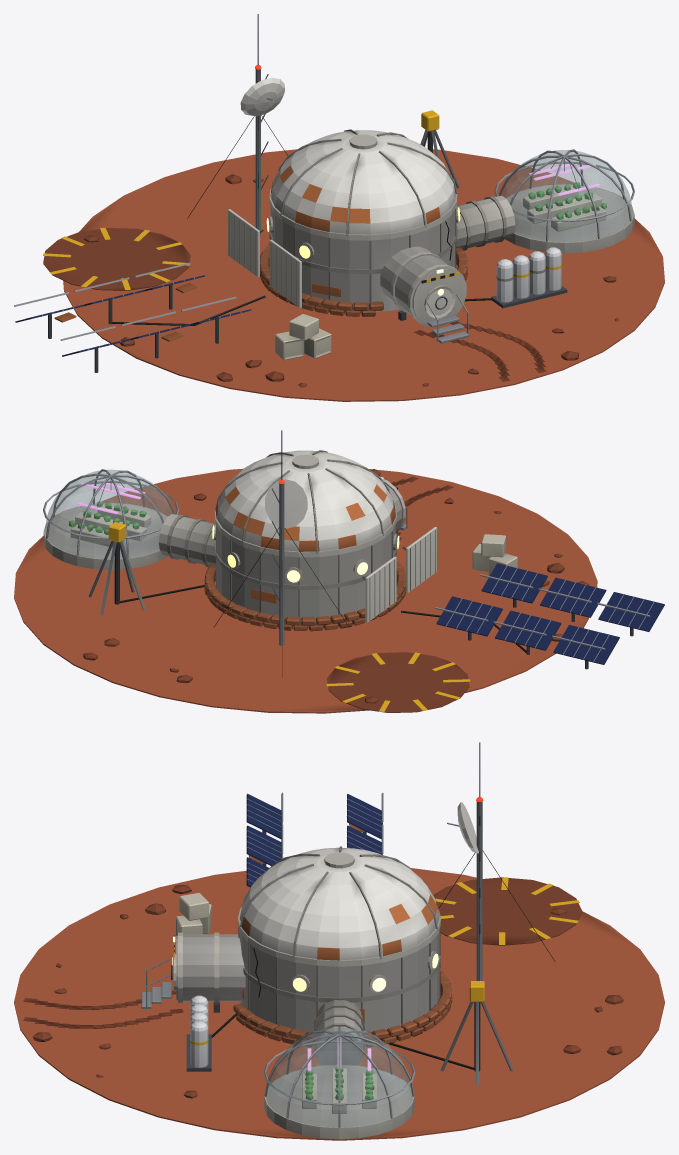
Rendered from mars_habitat.glb.
3 renders of one model, top to bottom at view 1: azimuth 30°, elevation 25°; view 2: azimuth 150°, elevation 25°; view 3: azimuth 270°, elevation 25°, orthographic. The views are drawn at different scales.
Visible parts, largest first — view 1: mars_habitat; view 2: mars_habitat; view 3: mars_habitat.
Boxes of the visible parts, x1,y1,x2,y2 form: mars_habitat: [14, 14, 664, 401]; mars_habitat: [14, 430, 664, 713]; mars_habitat: [14, 742, 664, 1140].
Size of the model in its own units: 29.38 by 10.81 by 26.
